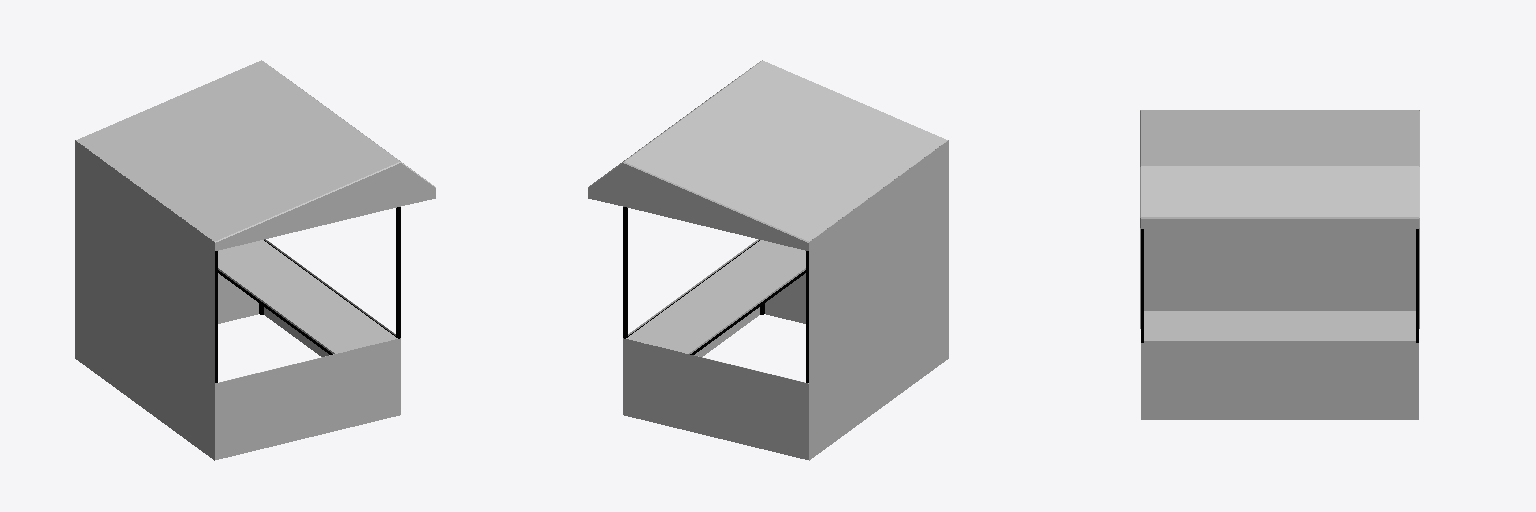
File: minigame_Stall.obj
The picture shows the model from 3 angles: view 1: azimuth 30°, elevation 25°; view 2: azimuth 150°, elevation 25°; view 3: azimuth 270°, elevation 25°; orthographic projection.
Visible parts, largest first — view 1: banner; view 2: banner; view 3: banner.
Part boxes in pixels (bbox=[...]): banner: bbox=[75, 60, 435, 460]; banner: bbox=[588, 60, 948, 460]; banner: bbox=[1140, 110, 1419, 419].
Bounding box in the file's own units: 7.96 × 8.68 × 8.68.